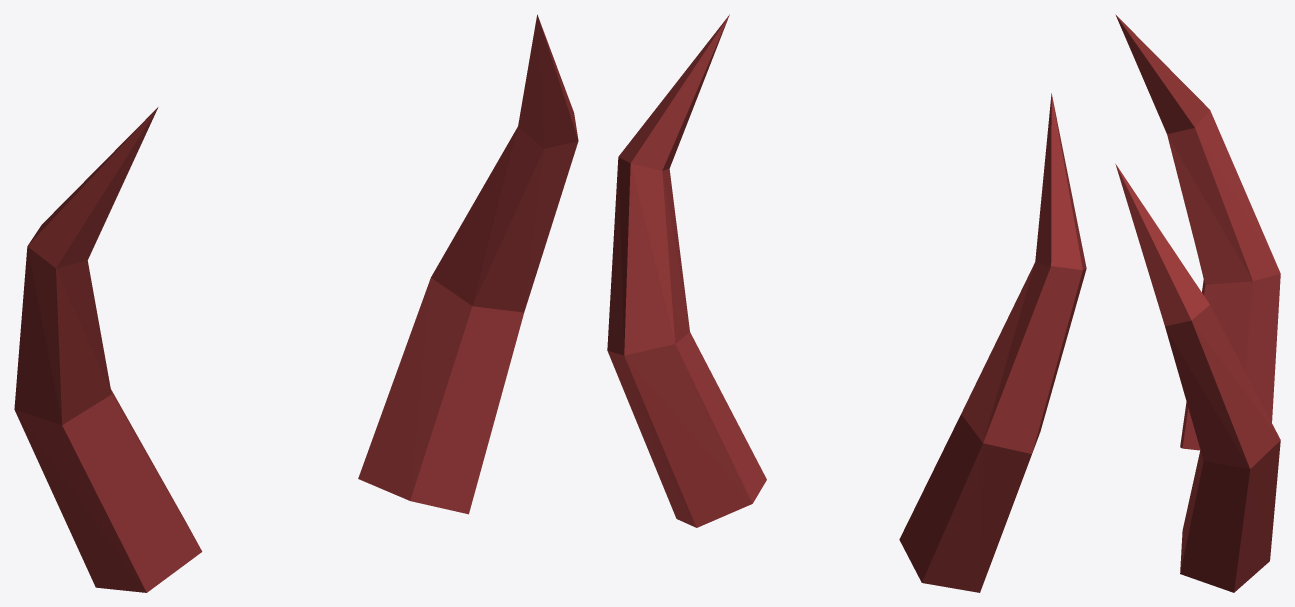
Rendered from Horns.obj.
The picture shows the model from 3 angles, left to right: view 1: azimuth 30°, elevation 25°; view 2: azimuth 150°, elevation 25°; view 3: azimuth 270°, elevation 25°; orthographic projection. The views are drawn at different scales.
Visible parts, largest first — view 1: Horns; view 2: Horns; view 3: Horns.
Part boxes in pixels (box(x1,y1,x2,y2)): Horns: box(14, 14, 578, 592); Horns: box(607, 14, 1086, 592); Horns: box(1115, 14, 1280, 592).
Size of the model in its own units: 0.289 by 0.2716 by 0.0939.
Materials: 1 (1 with a texture image).
